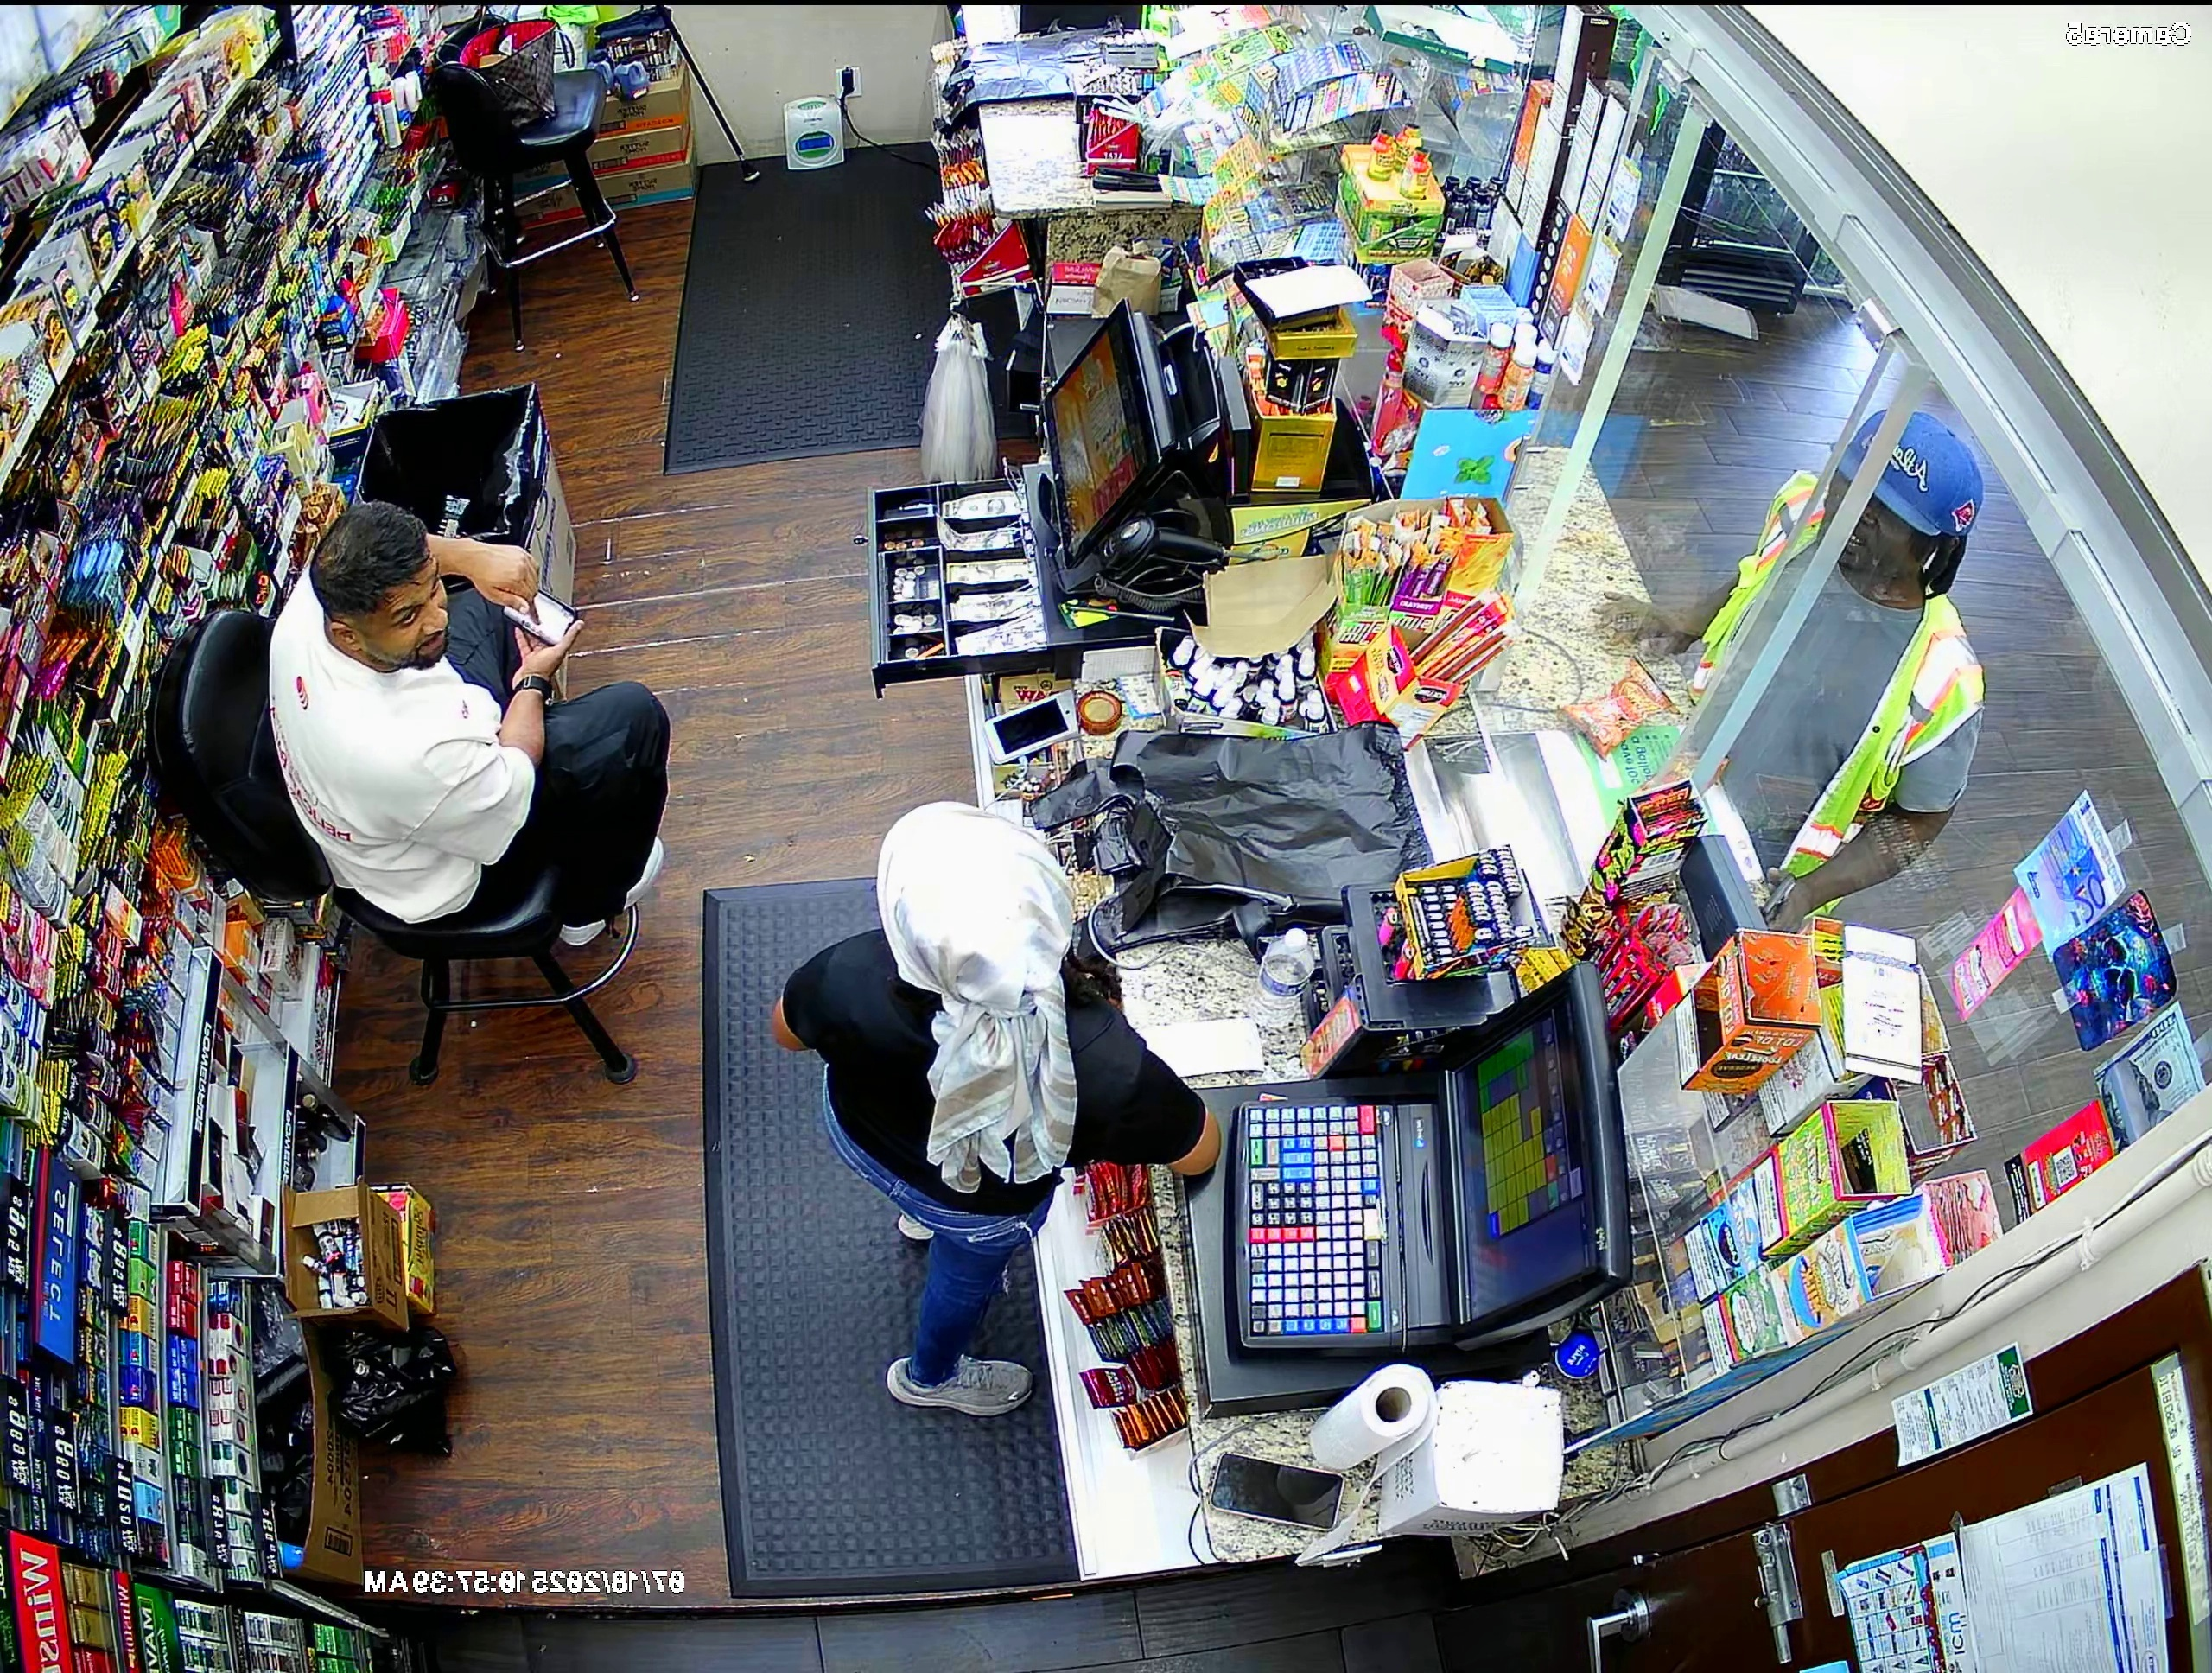phone: (488, 578, 594, 652), (1748, 866, 1808, 924)
